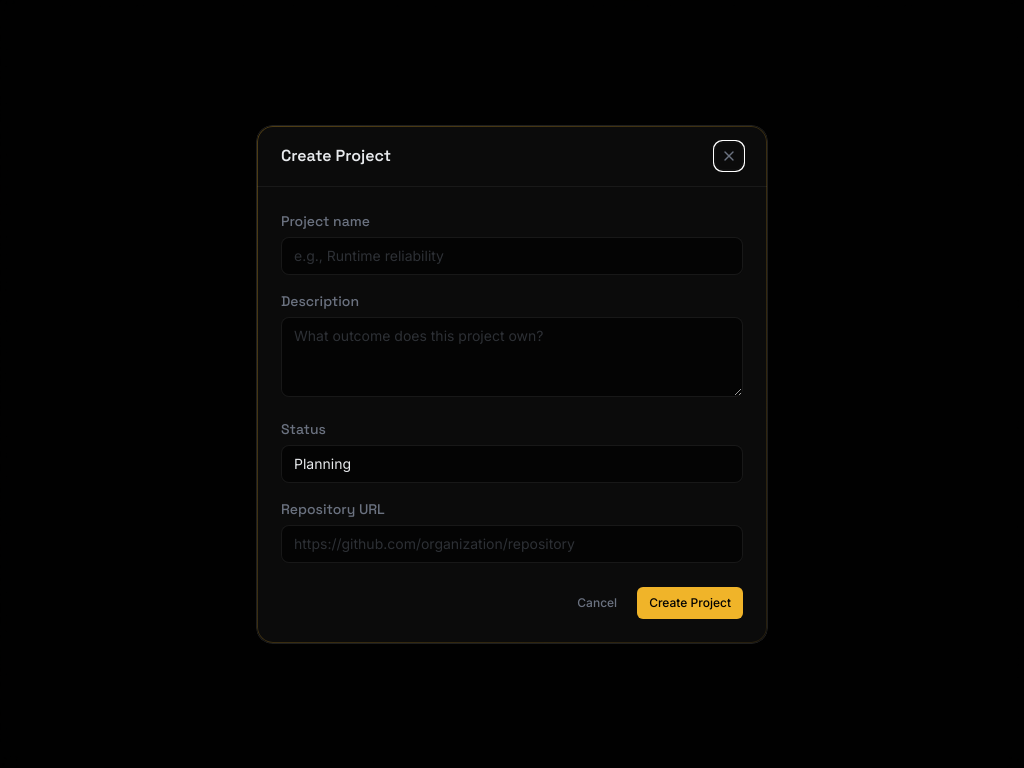
Test: CreateProjectModal › validates repository URLs before submitting
In the field labelled "Project name": (512, 256) x1=281 y1=236 x2=743 y2=274, type "Runtime reliability"
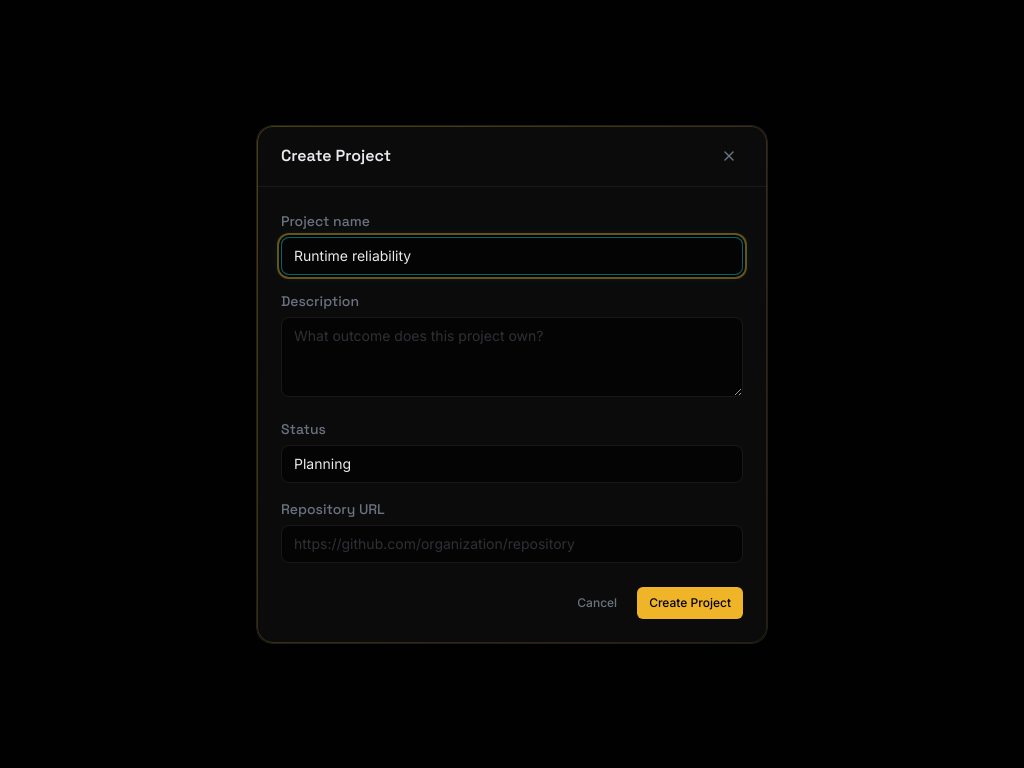
In the field labelled "Repository URL": (512, 544) x1=281 y1=524 x2=743 y2=562, type "not-a-url"
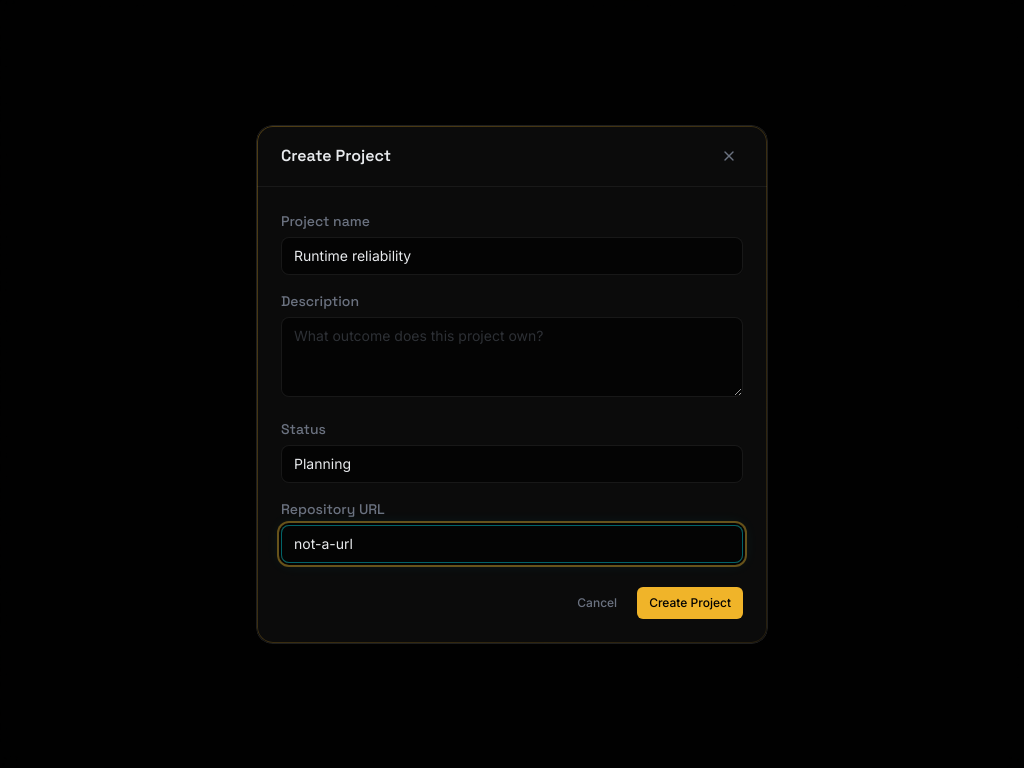
Click the button "Create Project": (690, 602) x1=637 y1=586 x2=743 y2=618
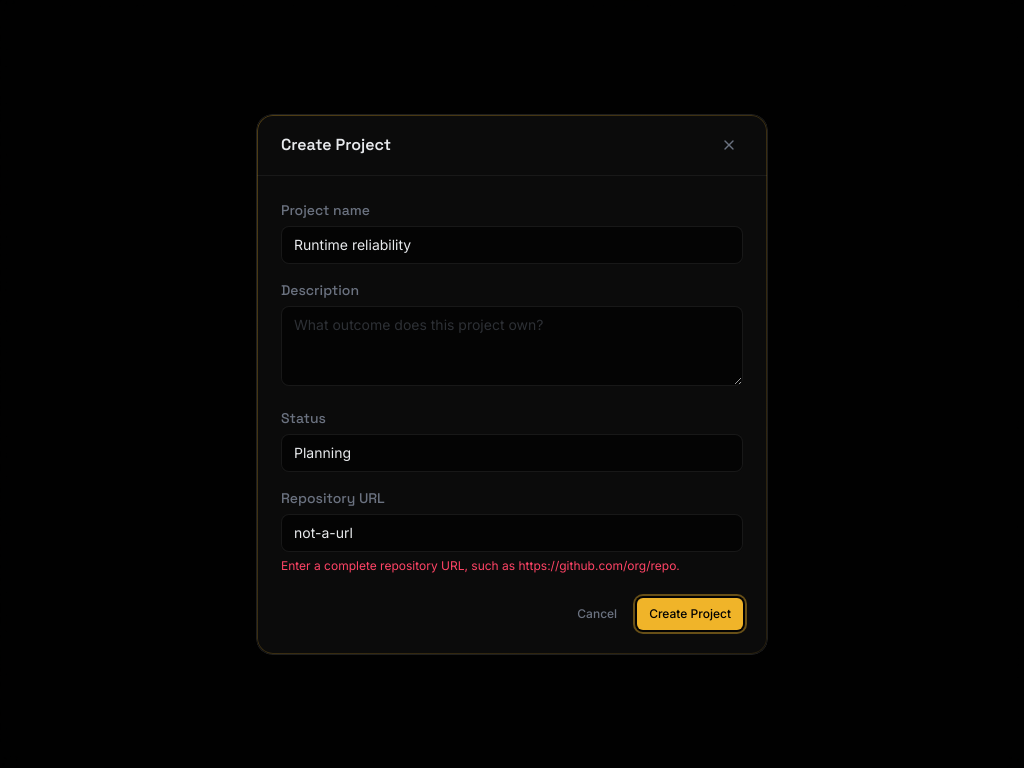
Expected: the message reads "Enter a complete repository URL, such as https://github.com/org/repo.", x1=281 y1=558 x2=680 y2=572
